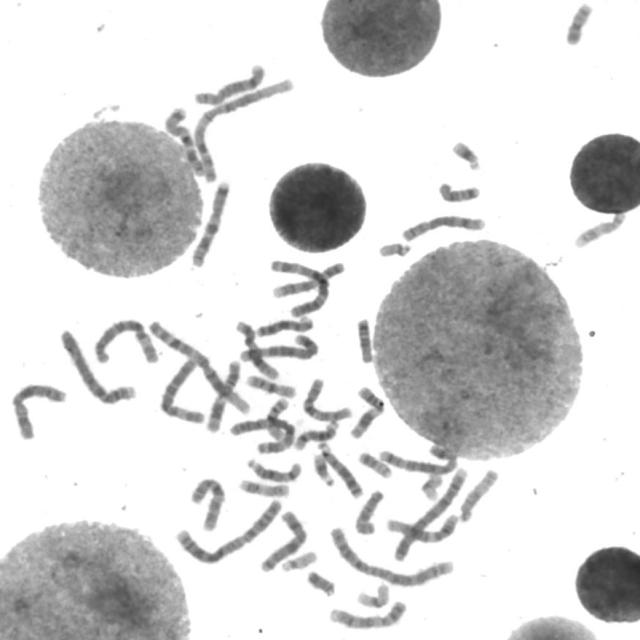A1: (190, 72, 297, 182), (143, 316, 252, 416)
A2: (325, 522, 456, 588), (170, 494, 286, 566)
A3: (266, 255, 332, 318), (225, 412, 298, 455)
B4: (388, 462, 471, 563), (55, 324, 138, 406)
B5: (376, 440, 460, 476), (236, 329, 320, 364)
C10: (298, 373, 354, 423), (186, 472, 228, 532)
C11: (201, 354, 243, 434), (344, 381, 386, 441)
C12: (232, 316, 280, 381), (382, 508, 460, 545)
C6: (89, 314, 161, 366), (155, 354, 206, 424)
C7: (186, 174, 232, 268), (159, 101, 208, 178)
C8: (189, 58, 268, 106), (396, 209, 488, 243)
C9: (269, 257, 347, 300), (325, 595, 409, 631)
D13: (313, 437, 367, 500), (251, 311, 316, 338)
D14: (242, 454, 304, 483), (290, 416, 341, 451)
D15: (455, 464, 501, 523), (350, 486, 385, 536)
E16: (241, 369, 298, 399), (261, 394, 291, 439)
E17: (570, 207, 628, 250), (234, 474, 291, 499)
E18: (433, 177, 483, 204), (352, 314, 375, 364)
F19: (352, 578, 392, 610), (416, 470, 446, 502)
F20: (560, 0, 596, 47), (353, 447, 394, 479)
G21: (447, 136, 484, 171), (308, 448, 337, 488)
G22: (277, 545, 319, 573), (374, 237, 413, 259)
X: (6, 378, 68, 441), (255, 504, 309, 574)
Y: (302, 566, 337, 597)
